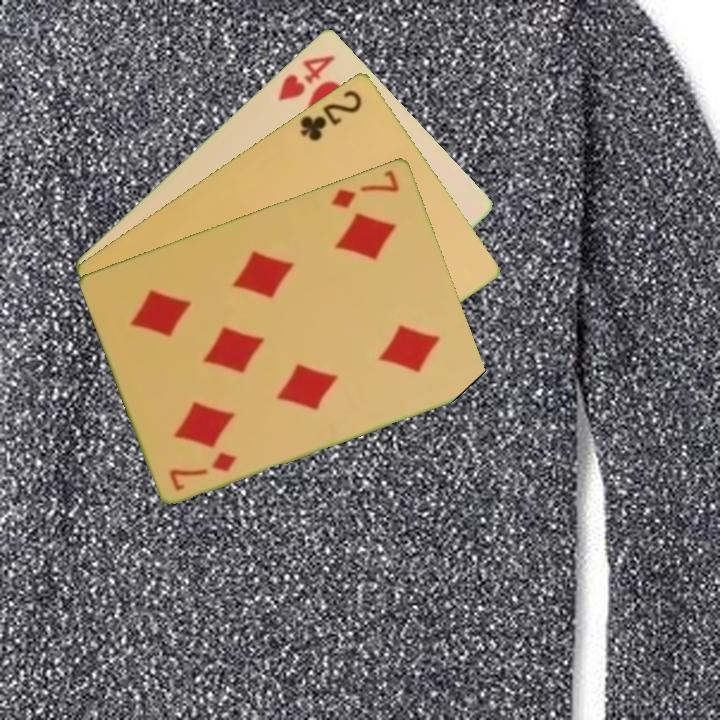2c: (296, 85, 365, 144)
4h: (274, 50, 338, 104)
7d: (327, 165, 402, 211), (166, 447, 241, 493)
